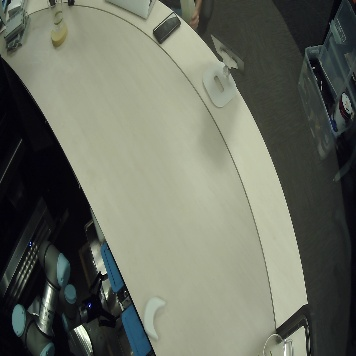empty_cup: (47, 1, 69, 28)
puck: (140, 294, 170, 345), (44, 22, 71, 51)
